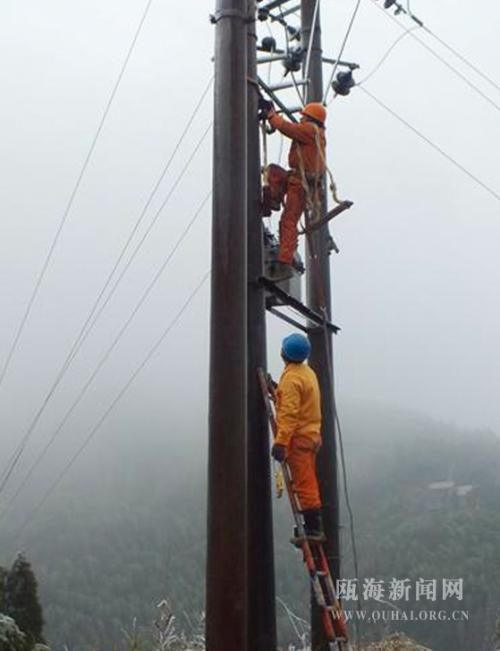helmet: (280, 332, 312, 371), (299, 99, 329, 136)
